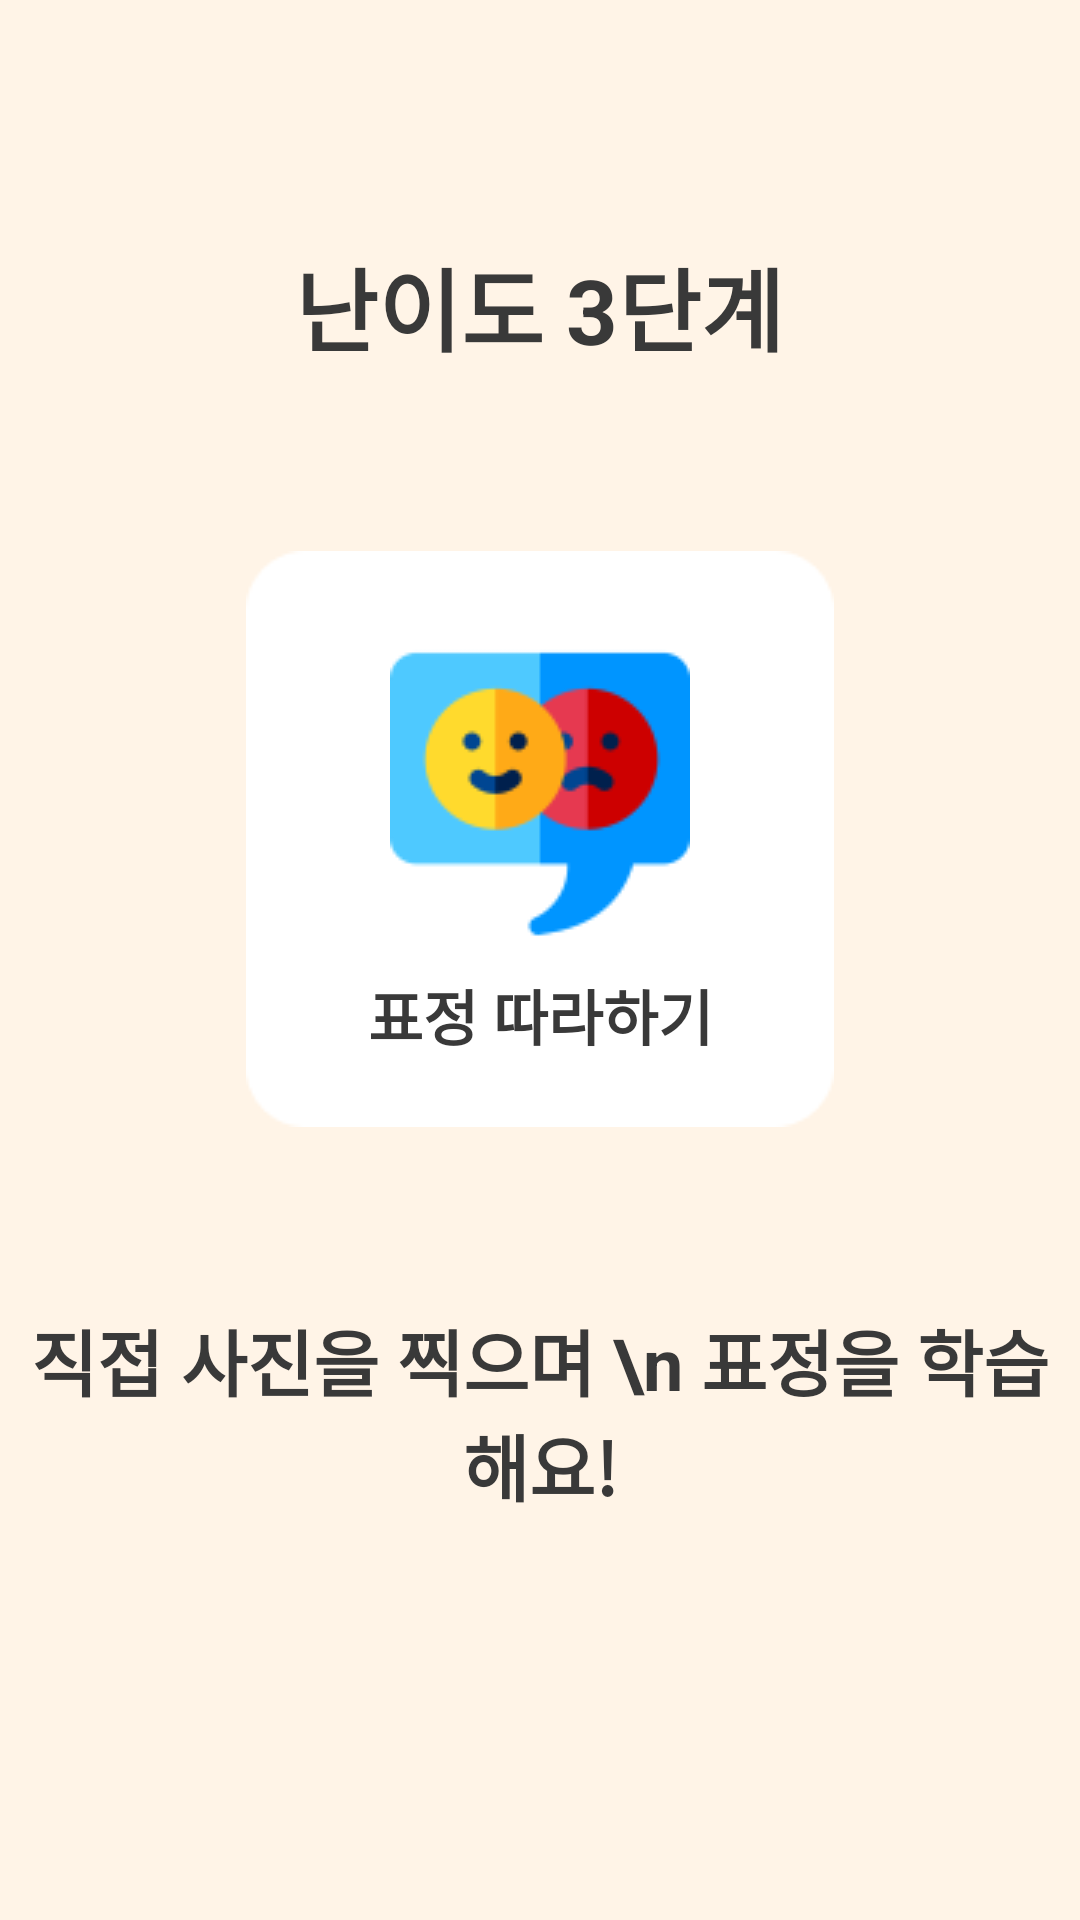

Locate icon controls on the screen. Image size 1080px×1920px, boxes as (x1, y1, x2, y2).
emotion: (390, 652, 690, 936)
